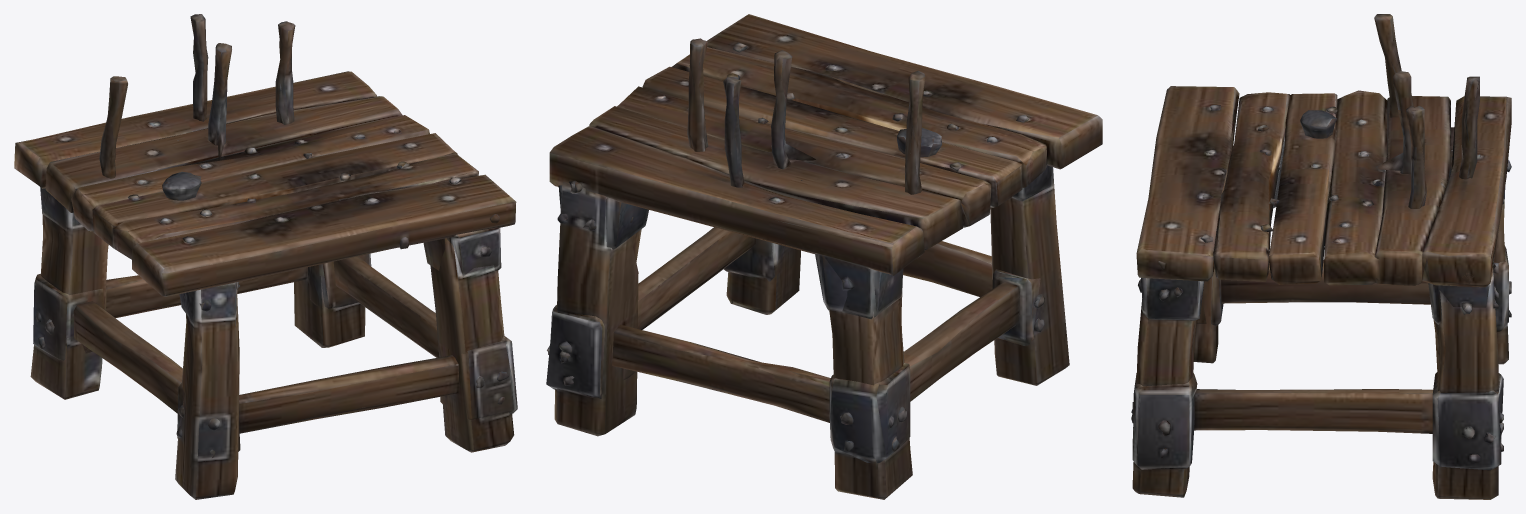
Rendered from fj_bancada.glb.
The picture shows the model from 3 angles, left to right: view 1: azimuth 30°, elevation 25°; view 2: azimuth 150°, elevation 25°; view 3: azimuth 270°, elevation 25°; orthographic projection. The views are drawn at different scales.
Visible parts, largest first — view 1: Mesh_0.4389; view 2: Mesh_0.4389; view 3: Mesh_0.4389.
Part boxes in pixels (box(x1,y1,x2,y2)): Mesh_0.4389: box(14, 14, 517, 499); Mesh_0.4389: box(546, 14, 1102, 499); Mesh_0.4389: box(1131, 14, 1511, 499).
Size of the model in its own units: 0.2979 by 0.2861 by 0.2812.
1 material, 1 textured.
